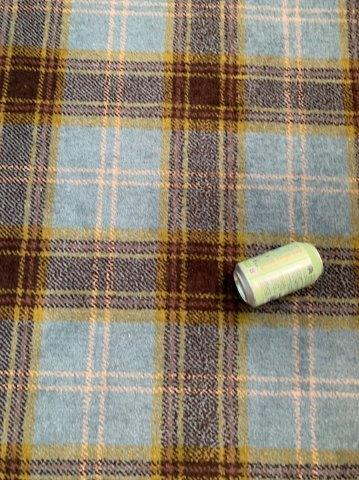kaleng: (234, 241, 324, 309)
